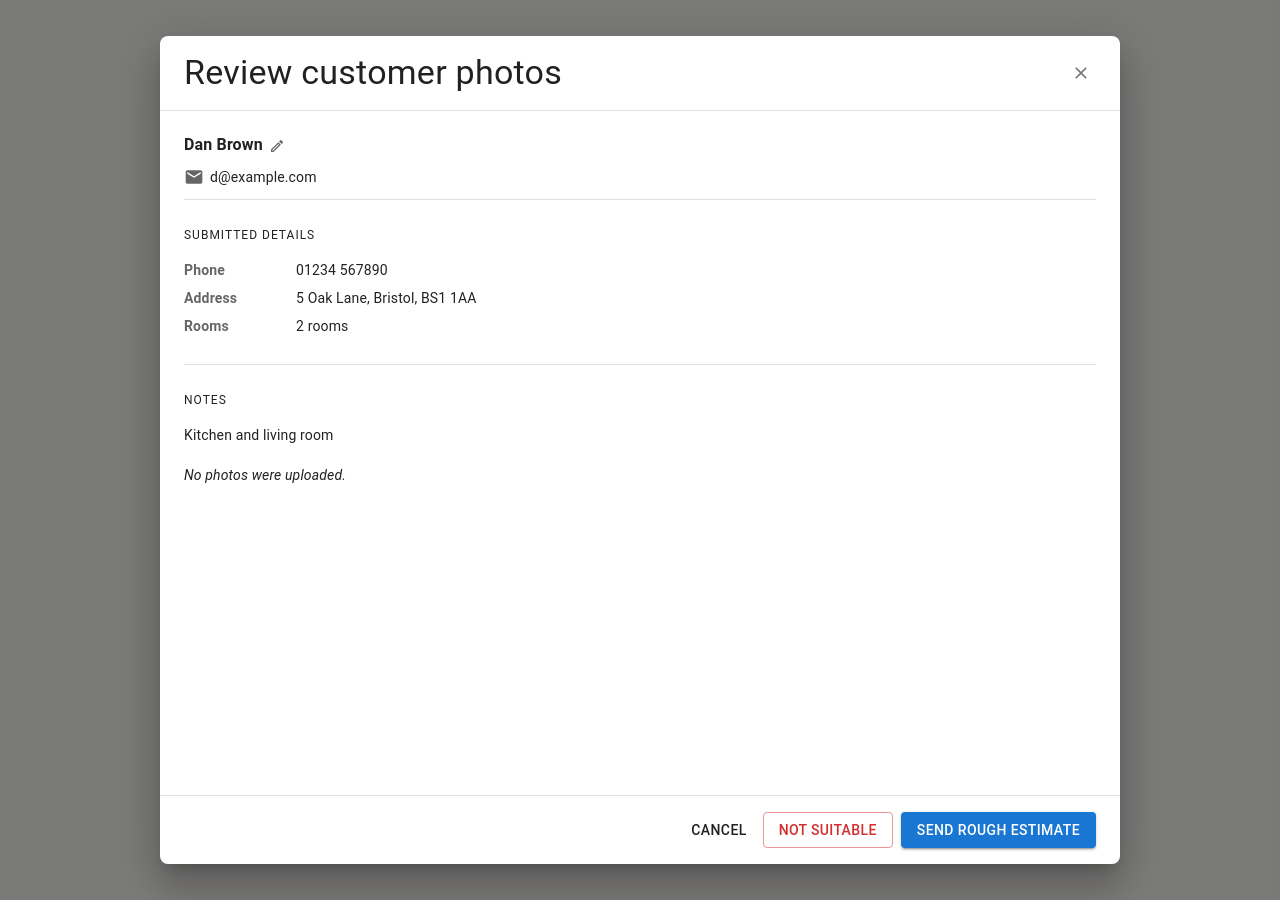
Test: ReviewCustomerPhotosModal — discard guard: dirty state shows dialog › "Keep editing" dismisses the discard dialog without closing the drawer
Click the button with test id "cah-not-suitable".
click(828, 830)  # box [763,812,893,848]
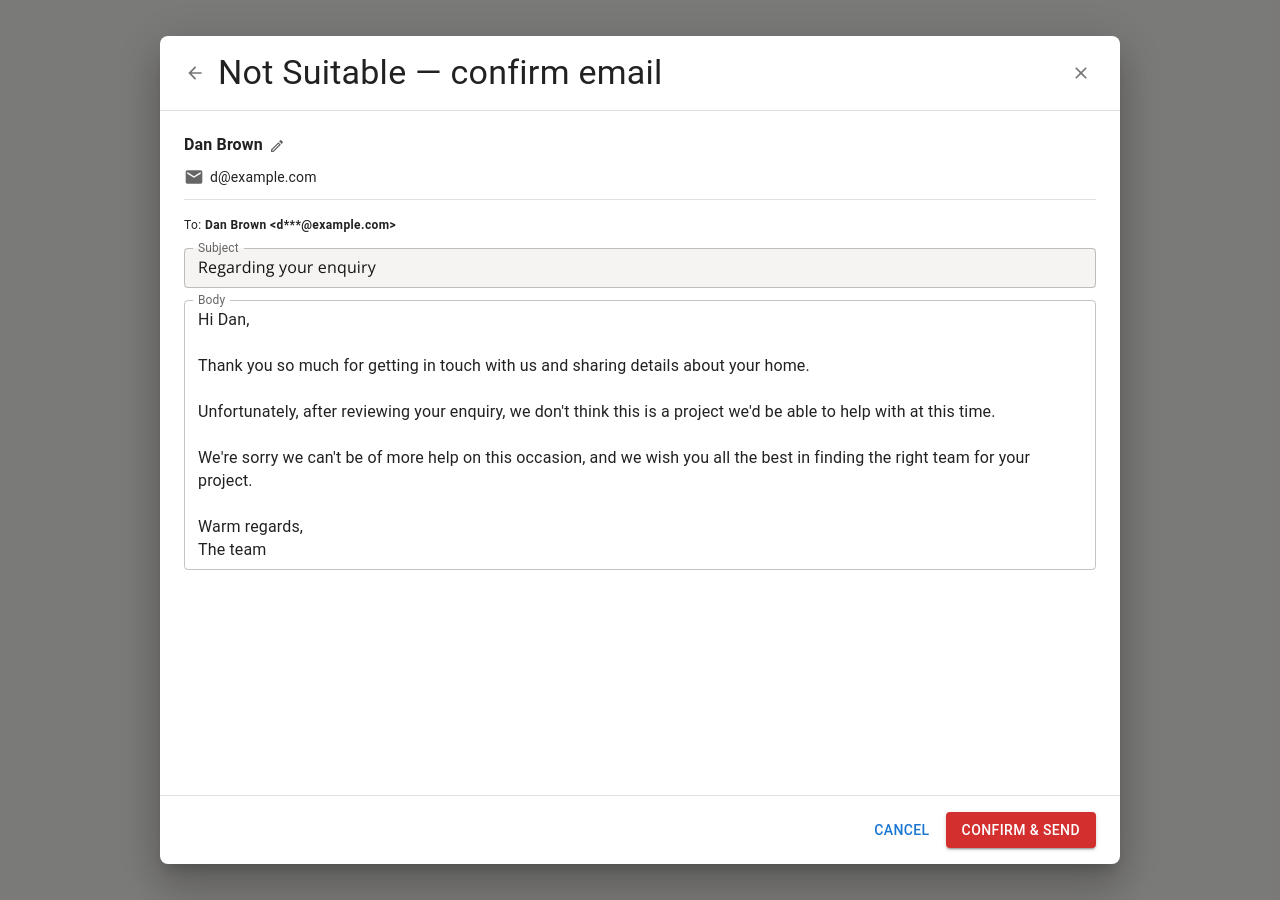
Result: the field labelled "Subject" is shown at [184,248,1096,288]
Click the button named "close".
click(1081, 73)  # box [1066,58,1096,88]
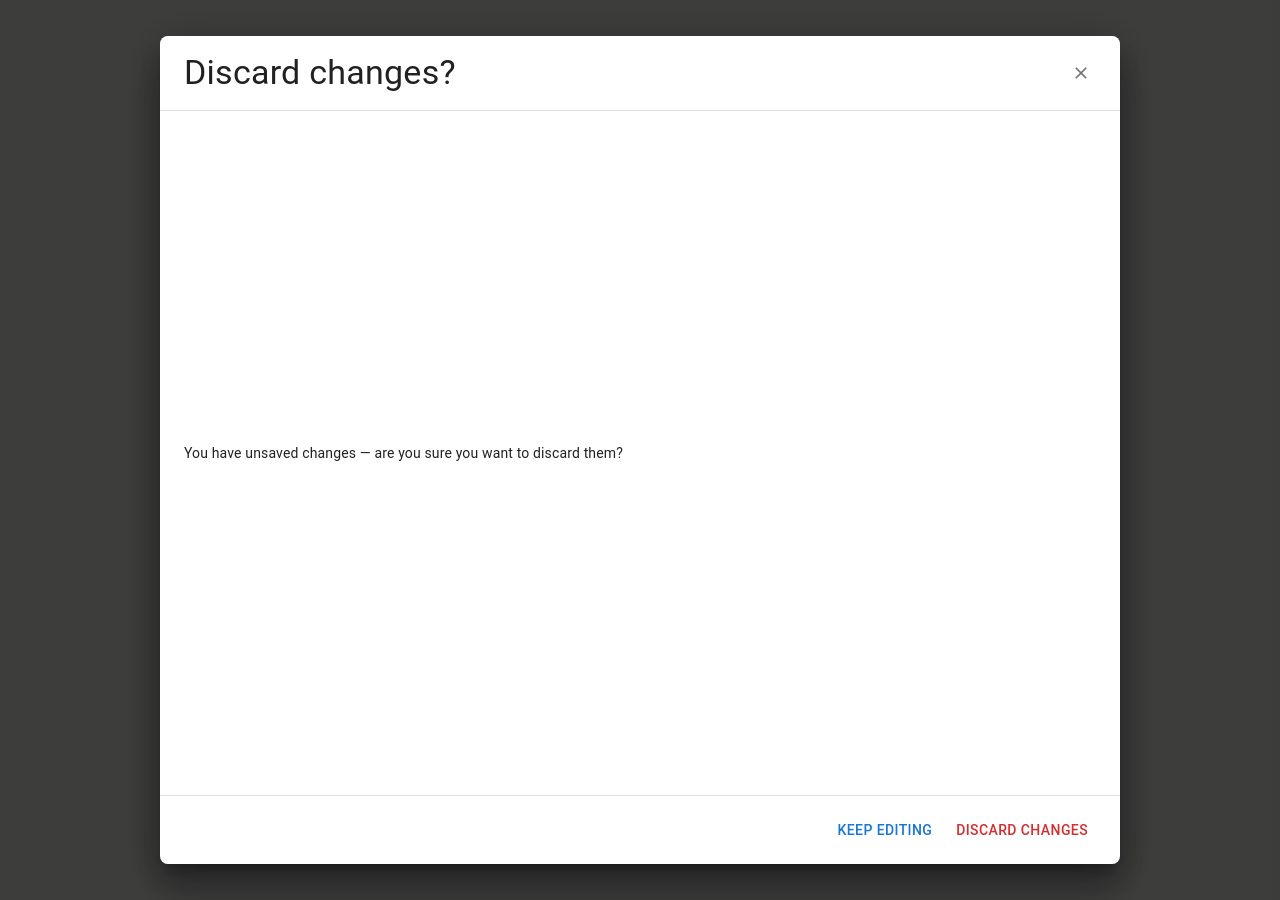
Result: the dialog "Discard changes" is shown
Click the button "Keep editing".
click(885, 830)  # box [830,812,940,848]
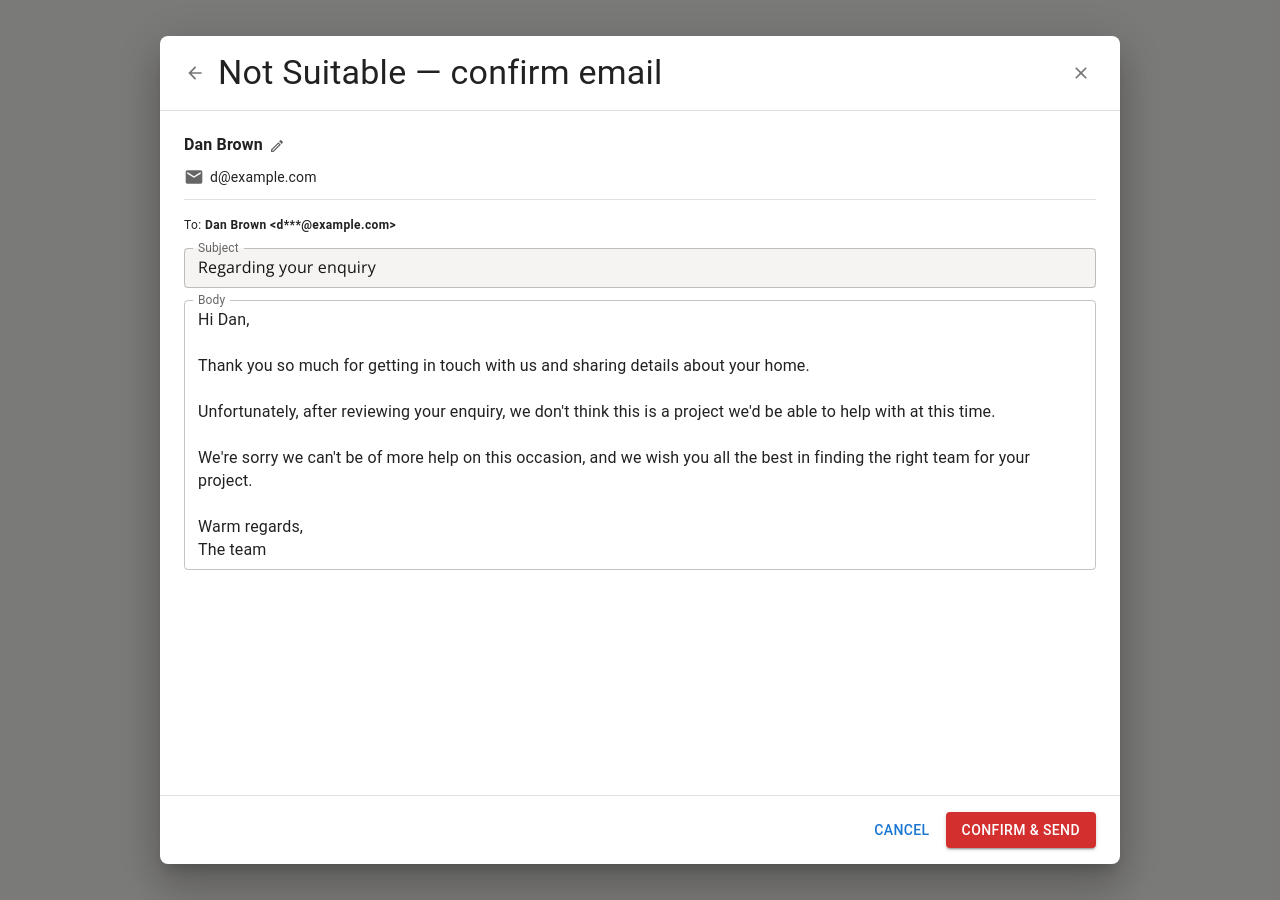
Result: the heading "Discard changes" is gone
